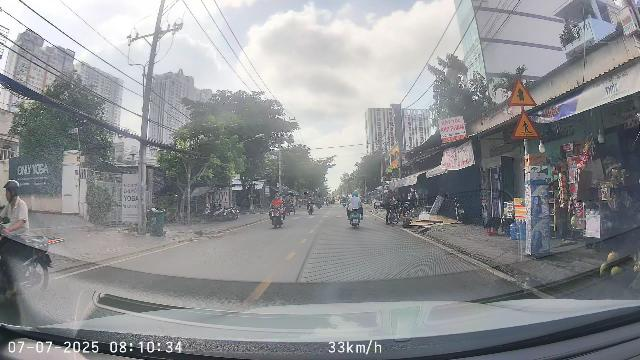207-giao-nhau-voi-duong-khong-uu-tien: (508, 79, 536, 106)
224-duong-nguoi-di-bo-cat-ngang: (512, 109, 540, 140)
